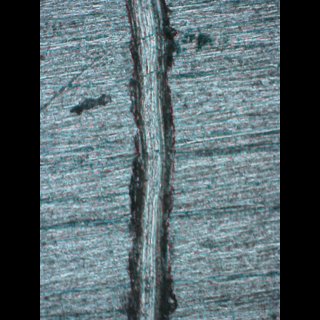d: (119, 0, 179, 317)
